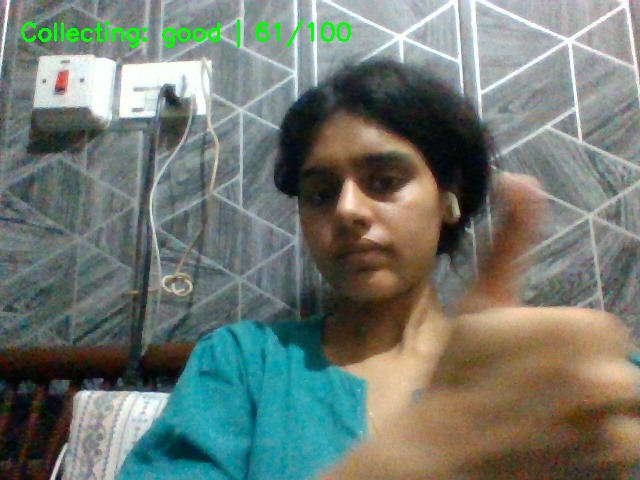good: (420, 148, 640, 480)
